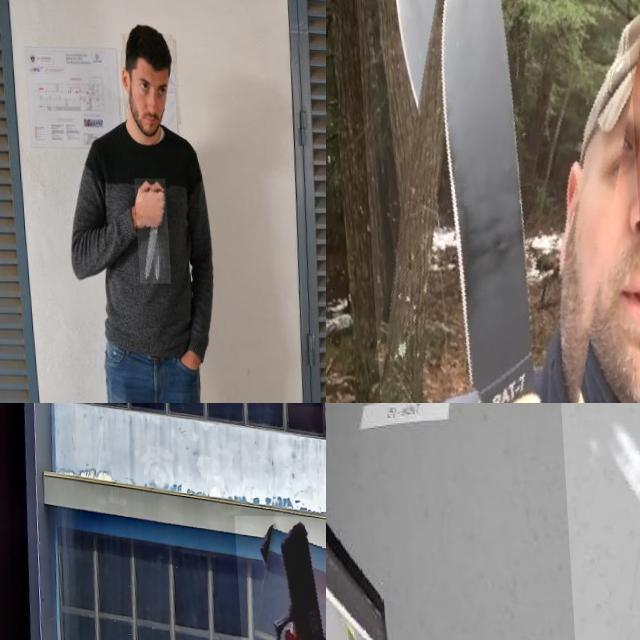-: (352, 0, 640, 403), (559, 403, 640, 640), (131, 177, 167, 283)
gun-knife-thesis - v11 Yolov5 augmented: (231, 514, 326, 640)
